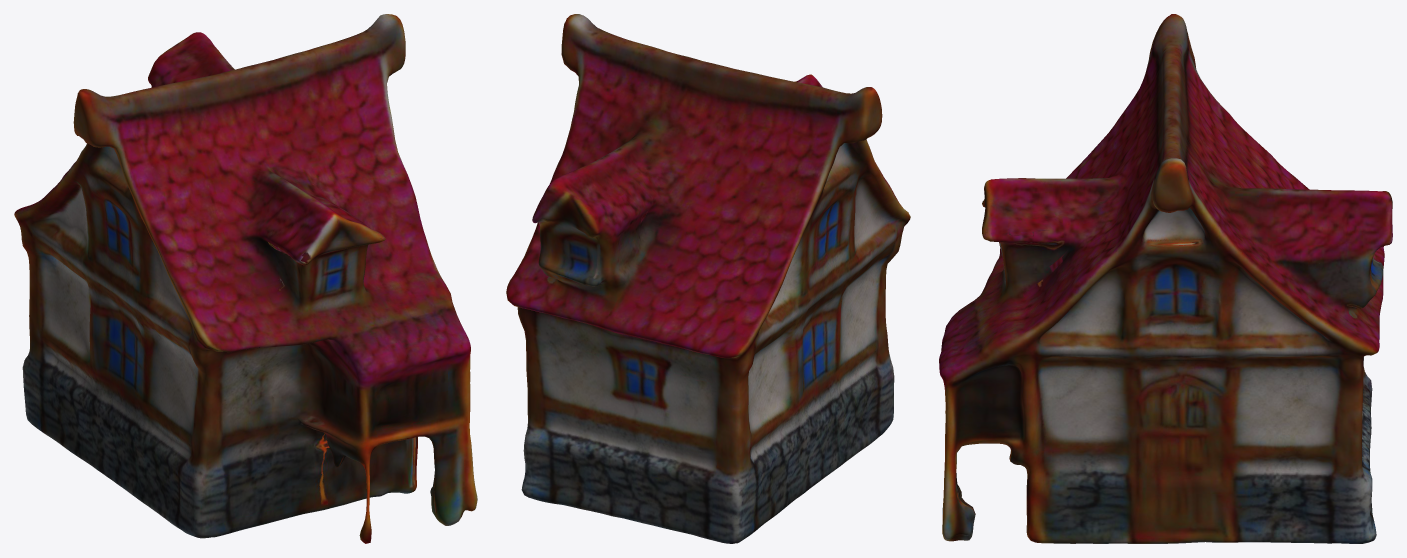
The model's file is House 2.fbx.
3 views of the same model, side by side, from view 1: azimuth 30°, elevation 25°; view 2: azimuth 150°, elevation 25°; view 3: azimuth 270°, elevation 25° (orthographic). The views are drawn at different scales.
Parts seen in each view (by area): view 1: mesh; view 2: mesh; view 3: mesh.
Part boxes in pixels (<box>): mesh: <box>14,14,477,543</box>; mesh: <box>506,14,910,543</box>; mesh: <box>939,14,1392,543</box>.
Bounding box in the file's own units: 79.57 × 98.56 × 99.62.
